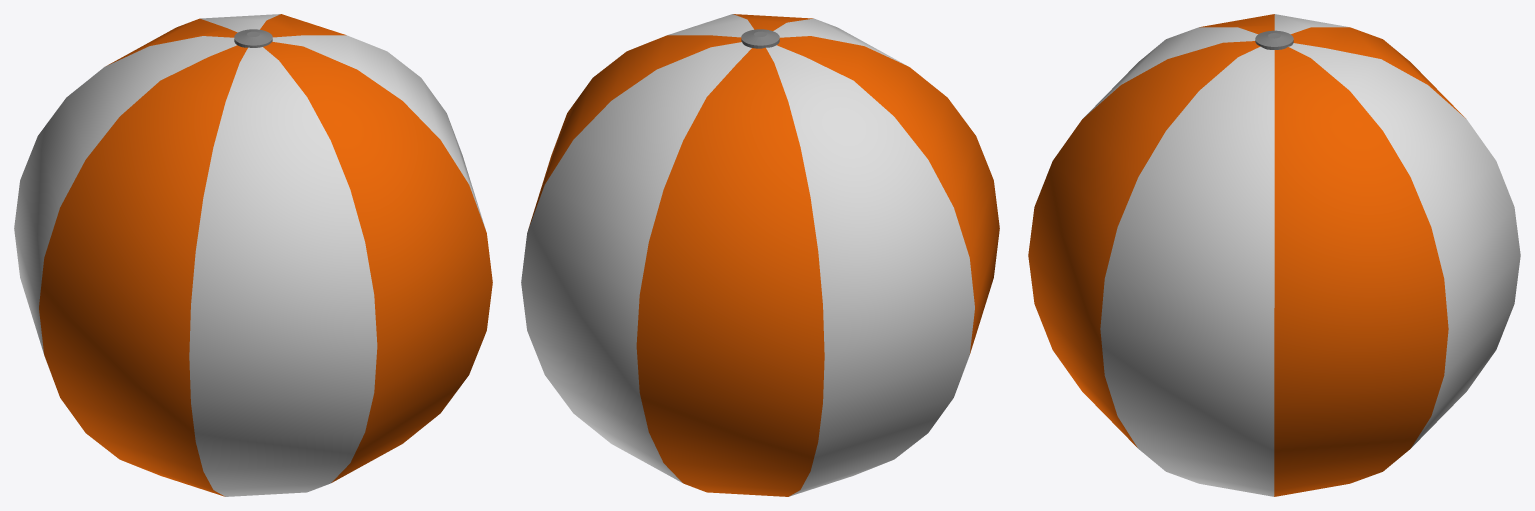
File: beachBall.fbx
3 renders of one model, left to right at view 1: azimuth 30°, elevation 25°; view 2: azimuth 150°, elevation 25°; view 3: azimuth 270°, elevation 25°, orthographic.
Parts seen in each view (by area): view 1: Sphere, Cylinder; view 2: Sphere, Cylinder; view 3: Sphere, Cylinder.
Part boxes in pixels (x1,y1,x2,y2): Sphere: (14, 14, 492, 496); Cylinder: (234, 29, 272, 47); Sphere: (521, 14, 999, 496); Cylinder: (741, 29, 779, 48); Sphere: (1028, 14, 1520, 496); Cylinder: (1255, 30, 1293, 49).
Bounding box in the file's own units: 200 × 197 × 200.
